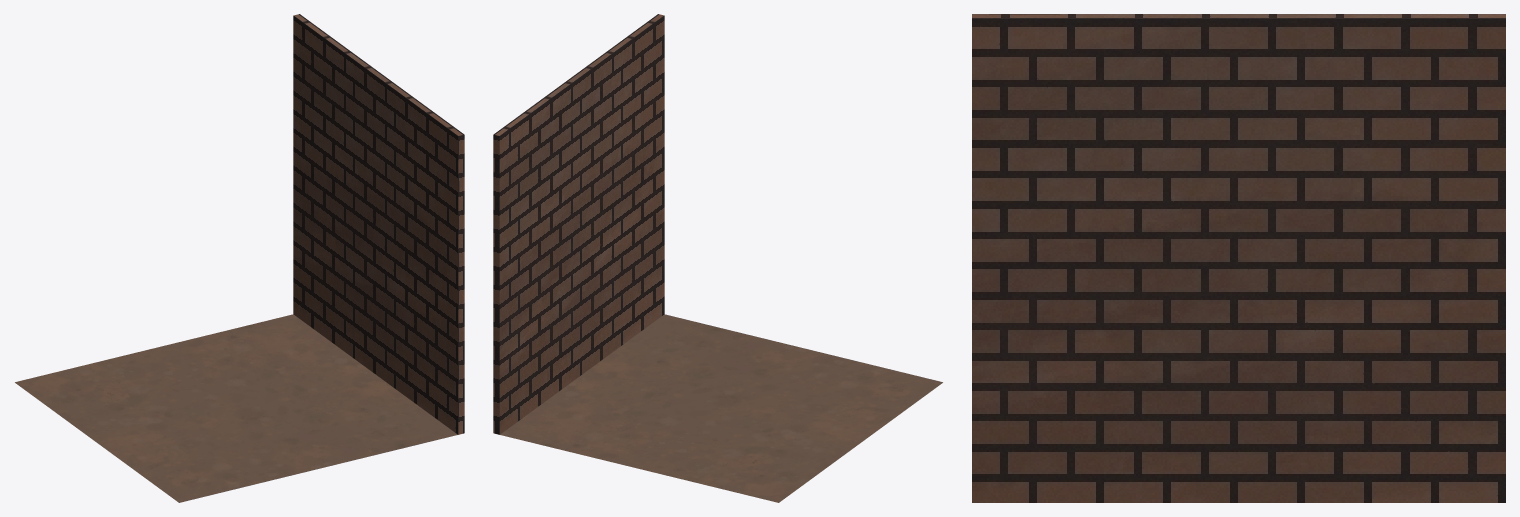
The model's file is wallLeft.glb.
3 views of the same model, side by side, from view 1: azimuth 30°, elevation 25°; view 2: azimuth 150°, elevation 25°; view 3: azimuth 270°, elevation 25° (orthographic). The views are drawn at different scales.
Visible parts, largest first — view 1: wallLeft-col; view 2: wallLeft-col; view 3: wallLeft-col.
Boxes of the visible parts, left/top/right/bottom form: wallLeft-col: left=15, top=14, right=464, bottom=502; wallLeft-col: left=493, top=14, right=942, bottom=502; wallLeft-col: left=972, top=14, right=1505, bottom=502.
Size of the model in its own units: 4 by 4 by 4.
Materials: 1 (1 with a texture image).
